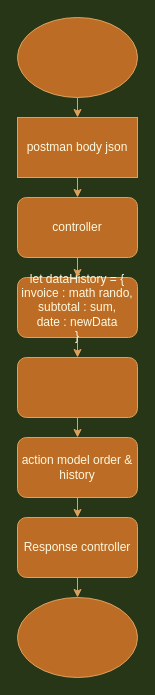
Some shapes in this 155 by 695 pixel diagram are drawn without their labels. The centre of each missing label's shape, as x and y in pixels:
end: (x=77, y=637)
let dataOrder = { id_history, product, ppn, price }: (x=77, y=387)
start: (x=77, y=57)
